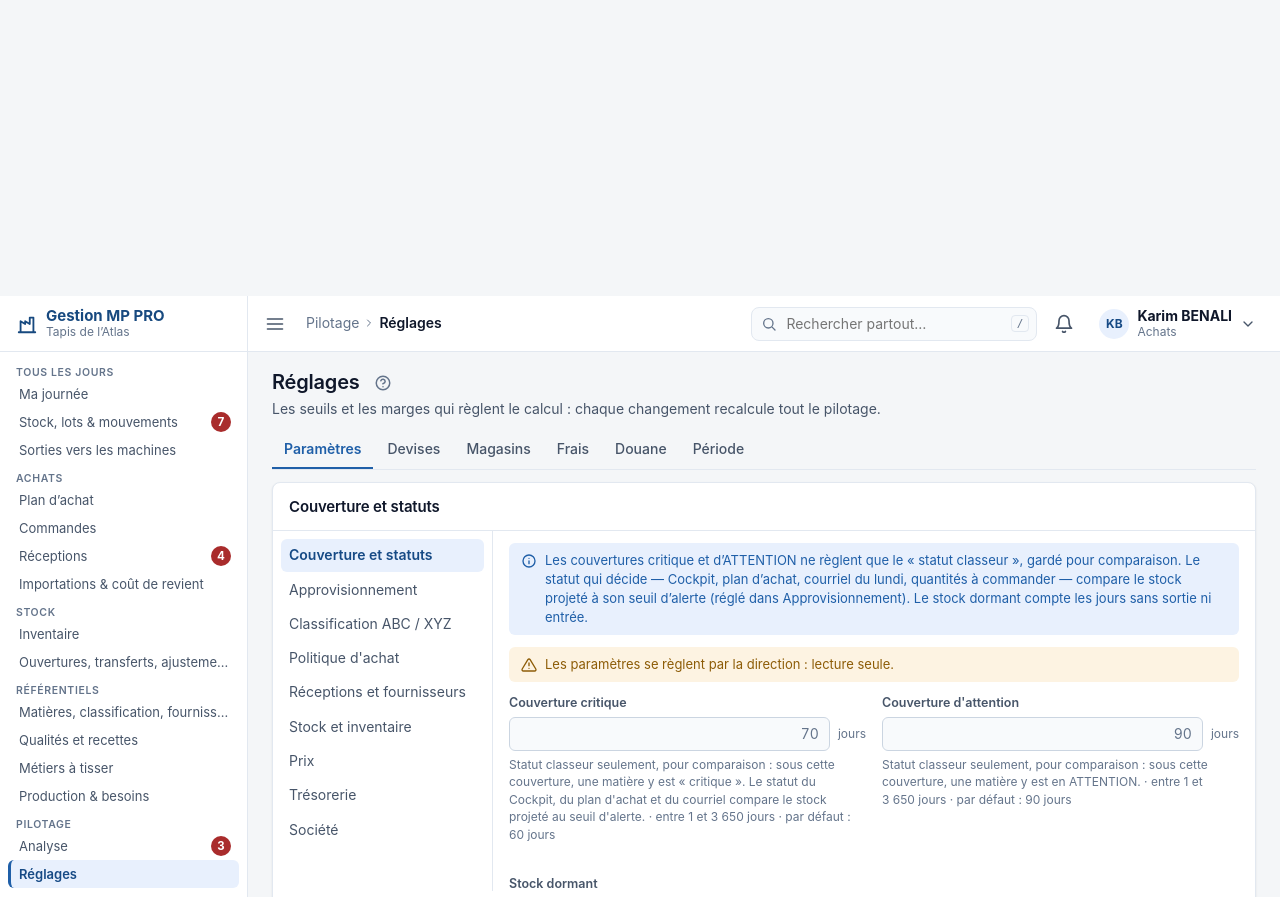
Scenario: Réglages › achats : les paramètres en lecture, les devises en écriture
(page scrolled)
Expected: the navigation bar named "Familles de réglages" is shown, [273,531,493,891]
Click the tab "Devises": (414, 450) [376,431,452,469]
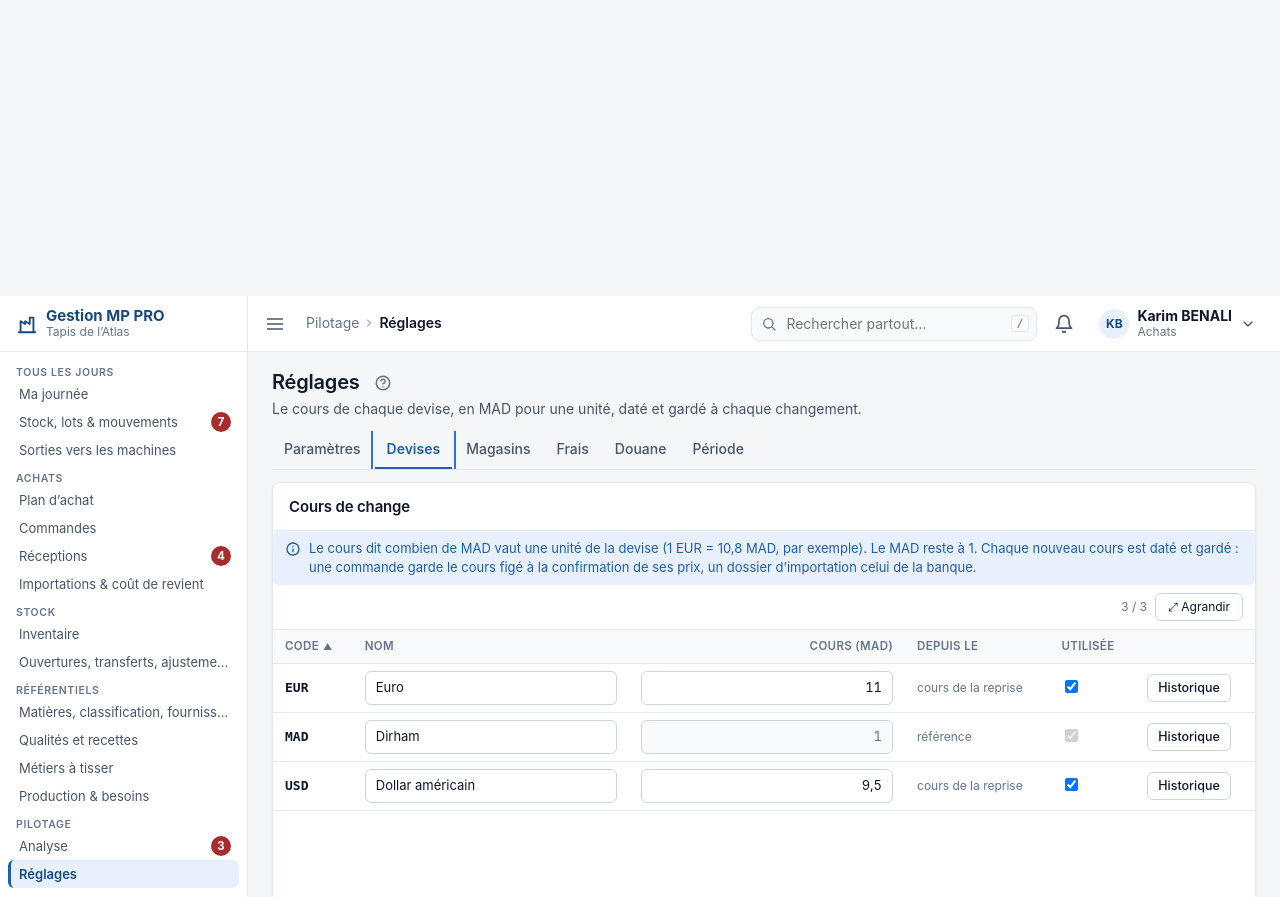
Expected: the field named "Cours de EUR" is enabled, [641,671,893,705]
Expected: the field named "Cours de MAD" is disabled, [641,720,893,754]
